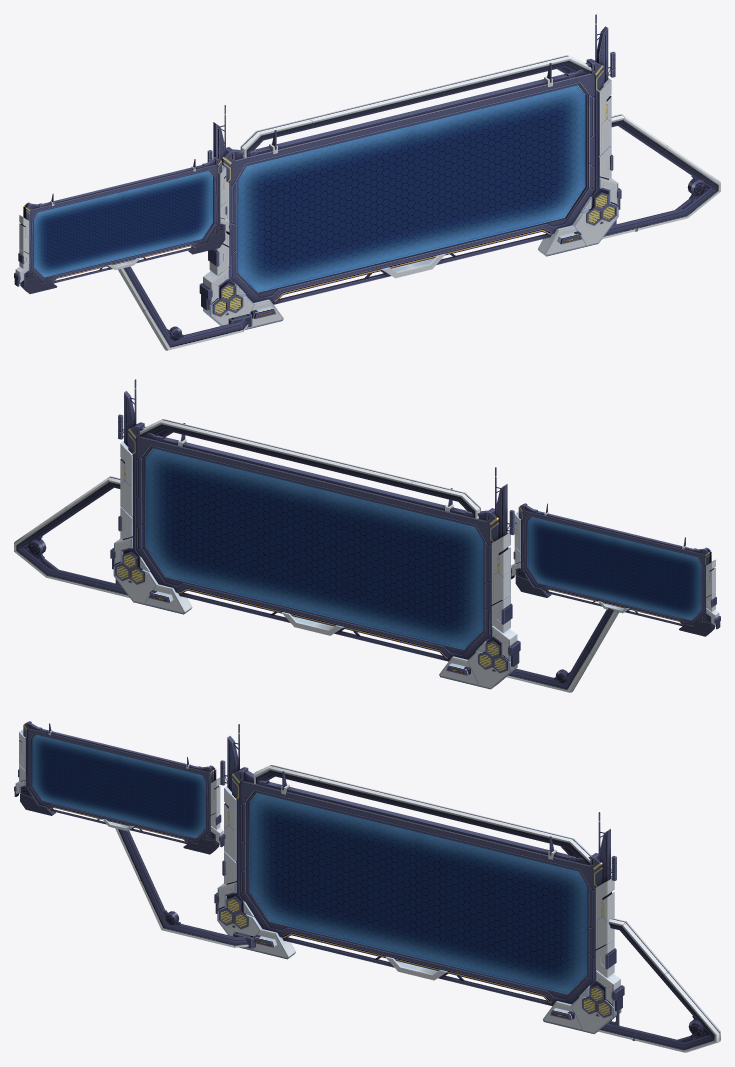
The model's file is Scece_01_zudang.FBX.
The picture shows the model from 3 angles, top to bottom: view 1: azimuth 30°, elevation 25°; view 2: azimuth 150°, elevation 25°; view 3: azimuth 330°, elevation 25°; orthographic projection. The views are drawn at different scales.
Visible parts, largest first — view 1: Scece_01_zudang_02, Scece_01_zudang; view 2: Scece_01_zudang_02, Scece_01_zudang; view 3: Scece_01_zudang_02, Scece_01_zudang.
Boxes of the visible parts, x1=… form: Scece_01_zudang_02: x1=34, y1=85, x2=585, y2=292; Scece_01_zudang: x1=14, y1=14, x2=720, y2=350; Scece_01_zudang_02: x1=145, y1=448, x2=701, y2=649; Scece_01_zudang: x1=14, y1=379, x2=720, y2=692; Scece_01_zudang_02: x1=32, y1=734, x2=586, y2=994; Scece_01_zudang: x1=14, y1=721, x2=720, y2=1052.
Size of the model in its own units: 15.56 by 4.71 by 0.7826.
Materials: 1 (1 with a texture image).
